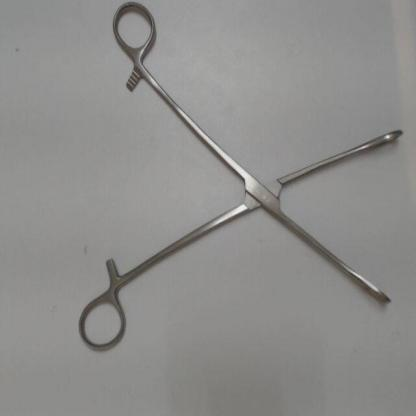Sponge Forceps: (74, 0, 410, 358)
